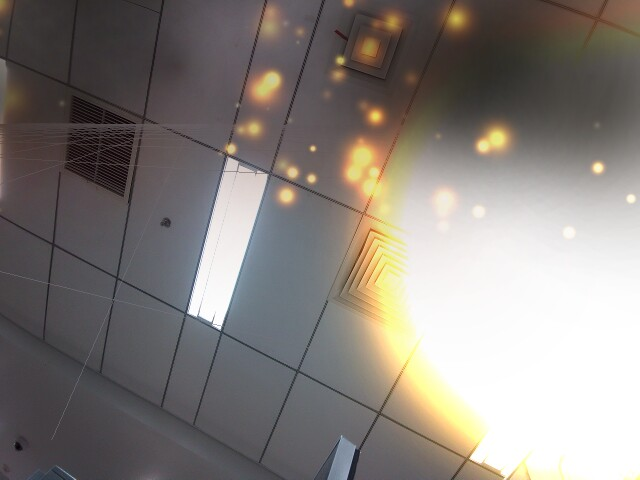fire: (380, 20, 638, 476)
